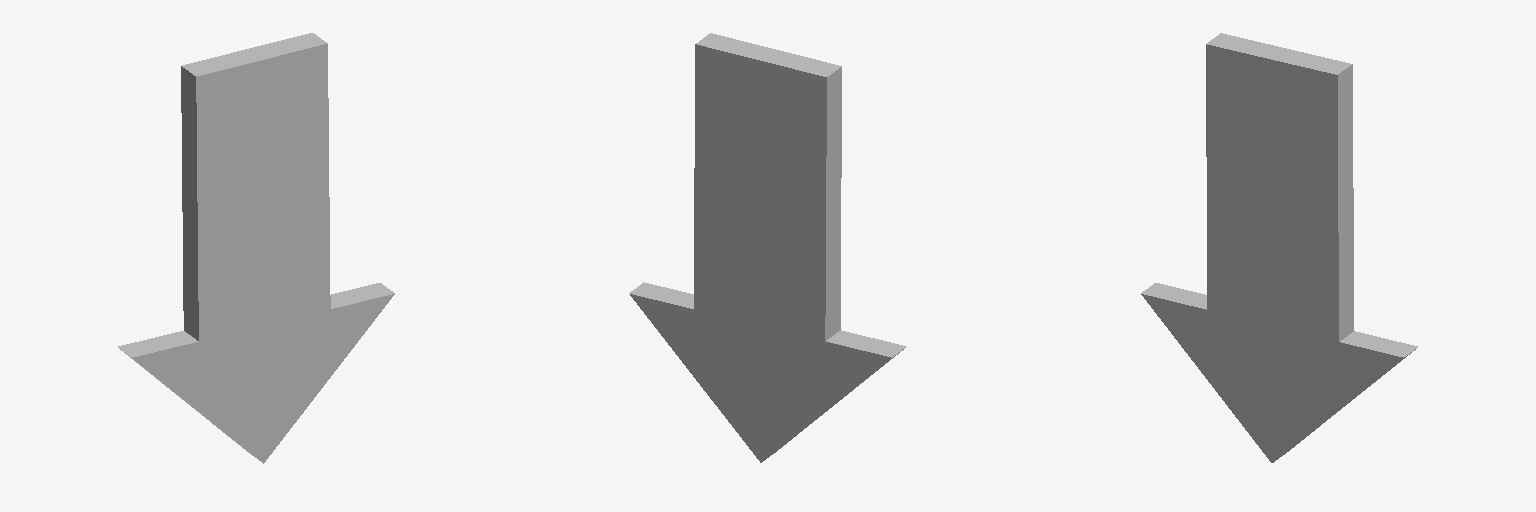
Rendered from arrow.obj.
3 views of the same model, side by side, from view 1: azimuth 30°, elevation 25°; view 2: azimuth 150°, elevation 25°; view 3: azimuth 330°, elevation 25° (orthographic).
Visible parts, largest first — view 1: Arrow; view 2: Arrow; view 3: Arrow.
Part boxes in pixels (bbox=[...]): Arrow: bbox=[118, 33, 394, 463]; Arrow: bbox=[629, 33, 906, 462]; Arrow: bbox=[1141, 33, 1417, 462].
Size of the model in its own units: 10 by 14.65 by 1.05.